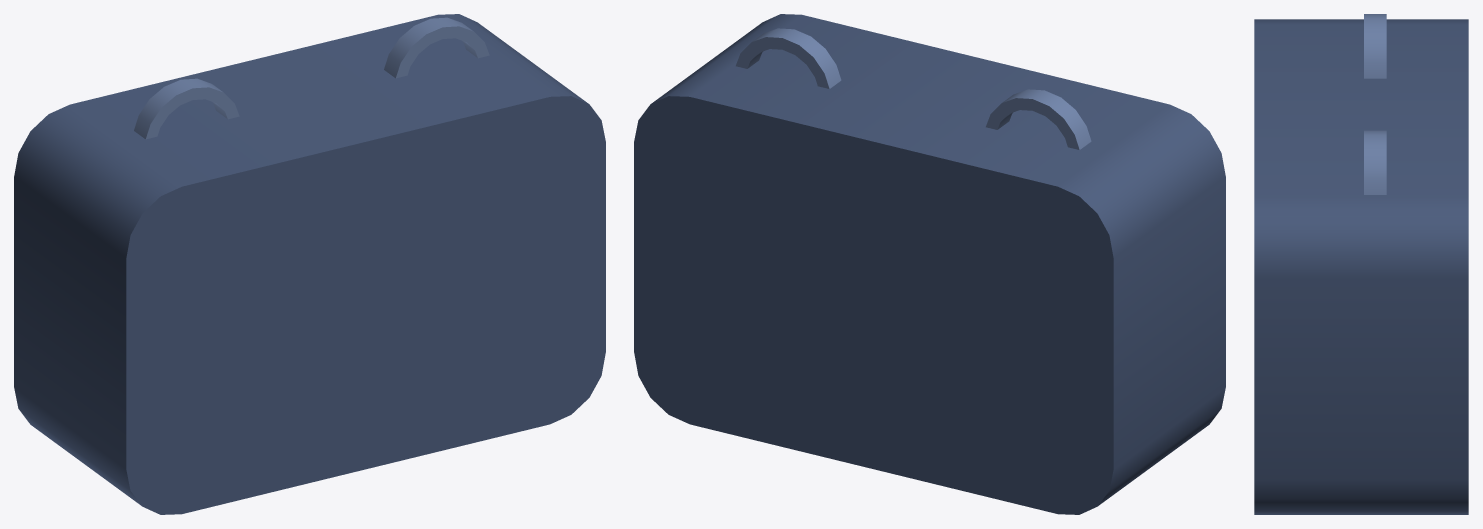
Rendered from Concrete Block B.fbx.
The picture shows the model from 3 angles, left to right: view 1: azimuth 30°, elevation 25°; view 2: azimuth 150°, elevation 25°; view 3: azimuth 270°, elevation 25°; orthographic projection. The views are drawn at different scales.
Visible parts, largest first — view 1: Concrete Box.001; view 2: Concrete Box.001; view 3: Concrete Box.001.
Part boxes in pixels (x1,y1,x2,y2): Concrete Box.001: (14, 14, 605, 514); Concrete Box.001: (634, 14, 1225, 514); Concrete Box.001: (1254, 14, 1468, 514).
Size of the model in its own units: 1.78 by 1.3 by 0.7222.
